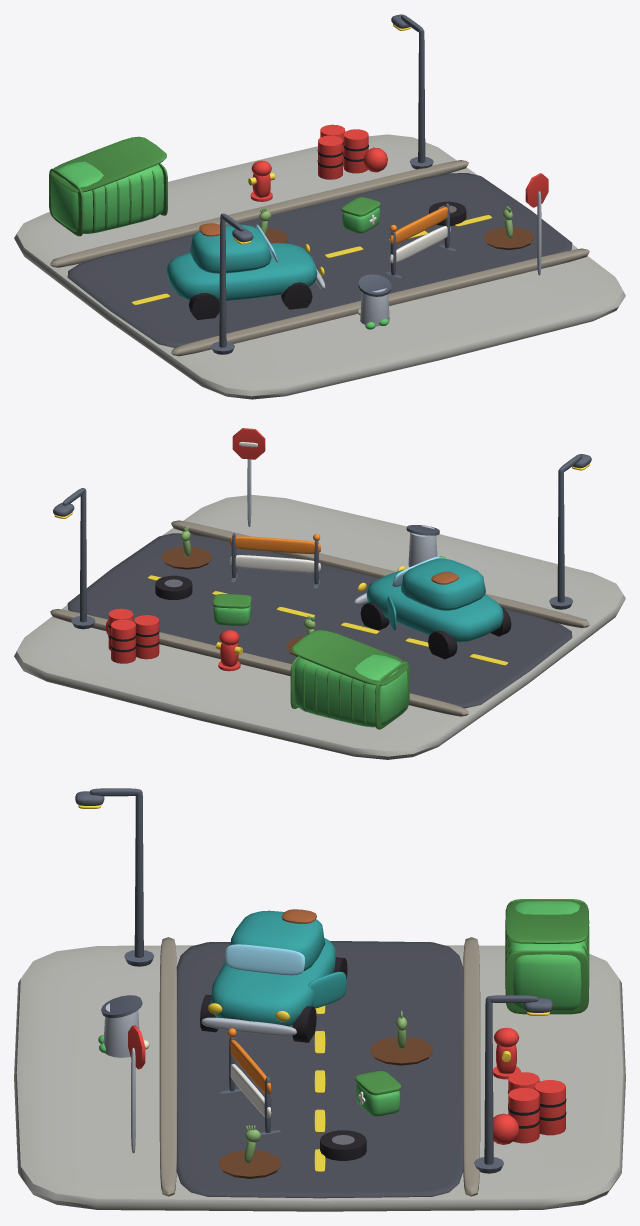
File: Diorama_Zombis.fbx
3 renders of one model, top to bottom at view 1: azimuth 30°, elevation 25°; view 2: azimuth 150°, elevation 25°; view 3: azimuth 270°, elevation 25°, orthographic. The views are drawn at different scales.
Visible parts, largest first — view 1: Suelo_Zombis, CocheRoto.001, Contenedor.001, Bidones.001, VallaObra.001, Basura.001, Farola.002, Farola.001, Suministros.001, ManoZombi.002, Stop.001, Hidrante.001; view 2: Suelo_Zombis, CocheRoto.001, Contenedor.001, VallaObra.001, Bidones.001, Farola.001, Farola.002, Stop.001, Suministros.001, ManoZombi.002, Basura.001, Hidrante.001 (+1 smaller); view 3: Suelo_Zombis, CocheRoto.001, Contenedor.001, Bidones.001, Farola.002, Farola.001, VallaObra.001, Basura.001, ManoZombi.002, Suministros.001, ManoZombi.001, Neumatico.001 (+2 smaller).
Boxes of the visible parts, box(x1,y1,x2,y2) form: Suelo_Zombis: box(14, 134, 625, 399); CocheRoto.001: box(166, 223, 325, 319); Contenedor.001: box(49, 136, 167, 236); Bidones.001: box(317, 124, 387, 179); VallaObra.001: box(385, 203, 455, 277); Basura.001: box(357, 274, 391, 329); Farola.002: box(211, 213, 253, 354); Farola.001: box(391, 14, 433, 169); Suministros.001: box(341, 197, 380, 233); ManoZombi.002: box(483, 206, 534, 249); Stop.001: box(525, 173, 548, 275); Hidrante.001: box(248, 160, 275, 201); Suelo_Zombis: box(14, 495, 625, 759); CocheRoto.001: box(354, 556, 511, 659); Contenedor.001: box(290, 630, 409, 729); VallaObra.001: box(229, 533, 320, 588); Bidones.001: box(105, 608, 159, 663); Farola.001: box(53, 488, 95, 629); Farola.002: box(549, 454, 591, 609); Stop.001: box(232, 428, 265, 526); Suministros.001: box(213, 594, 251, 625); ManoZombi.002: box(161, 526, 212, 569); Basura.001: box(406, 525, 446, 566); Hidrante.001: box(216, 630, 242, 671); Suelo_Zombis: box(14, 937, 625, 1211); CocheRoto.001: box(200, 909, 347, 1042); Contenedor.001: box(505, 899, 589, 1014); Bidones.001: box(493, 1072, 566, 1144); Farola.002: box(75, 788, 154, 966); Farola.001: box(474, 995, 552, 1173); VallaObra.001: box(219, 1037, 280, 1134); Basura.001: box(98, 995, 149, 1057); ManoZombi.002: box(218, 1125, 281, 1178); Suministros.001: box(355, 1071, 401, 1116); ManoZombi.001: box(369, 1010, 433, 1065); Neumatico.001: box(320, 1130, 366, 1160).
Size of the model in its own units: 10.5 by 3.66 by 10.5.
2 materials, 2 textured.
